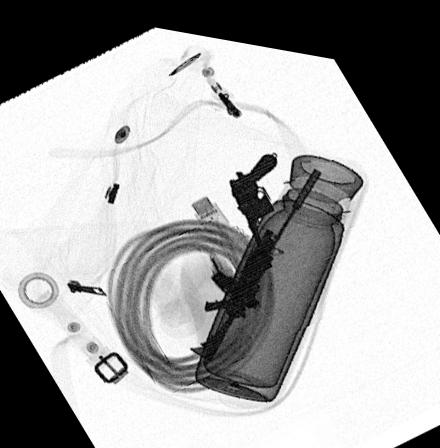Gun: (187, 155, 321, 353), (227, 141, 276, 248)
